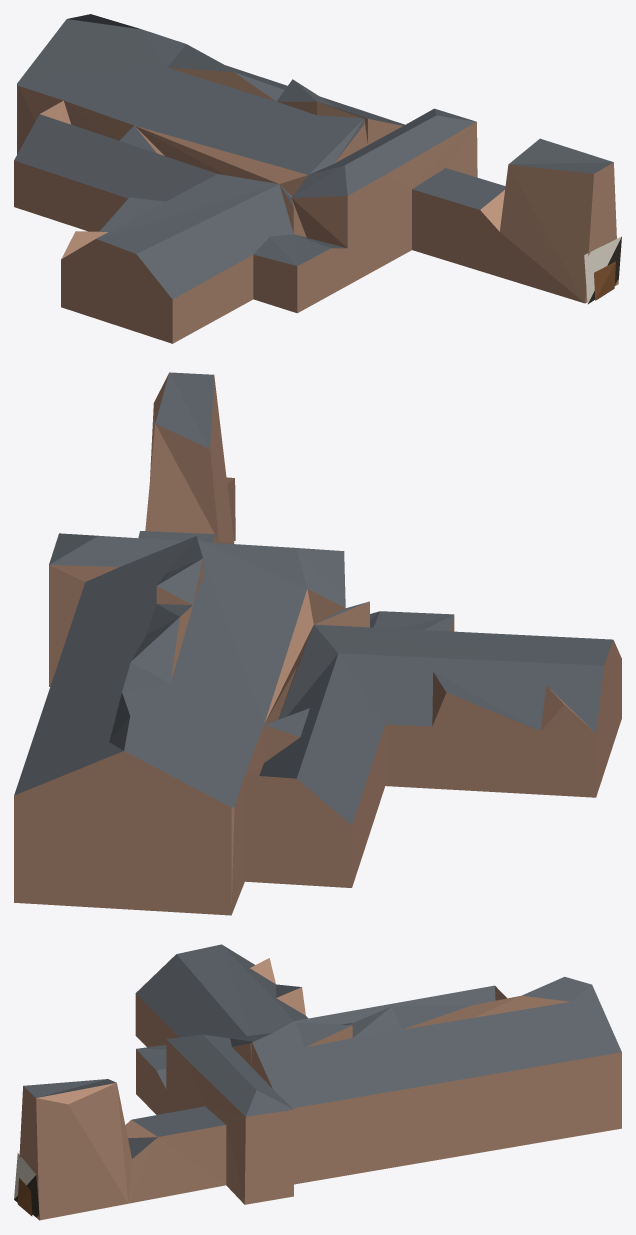
The model's file is levend-paardenmuseum.lod2.glb.
3 views of the same model, one above another, from view 1: azimuth 30°, elevation 25°; view 2: azimuth 150°, elevation 25°; view 3: azimuth 270°, elevation 25° (orthographic). The views are drawn at different scales.
Parts seen in each view (by area): view 1: lod2; view 2: lod2; view 3: lod2.
Boxes of the visible parts, box(x1,y1,x2,y2) form: lod2: box(14, 14, 621, 343); lod2: box(14, 372, 621, 915); lod2: box(14, 944, 621, 1220).
Bounding box in the file's own units: 60.12 × 16.98 × 74.58.
